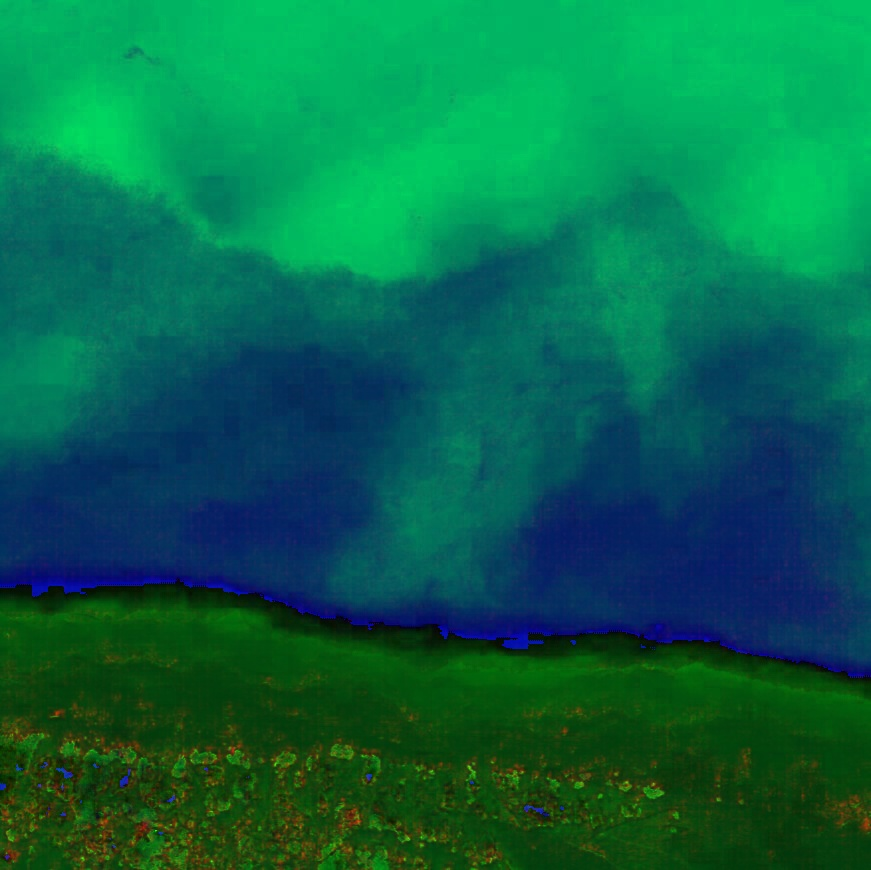rip_current: (301, 265, 765, 621)
